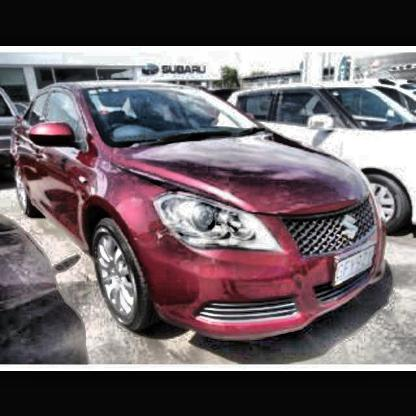Suzuki Kizashi Sedan 2012: (10, 76, 390, 346)
